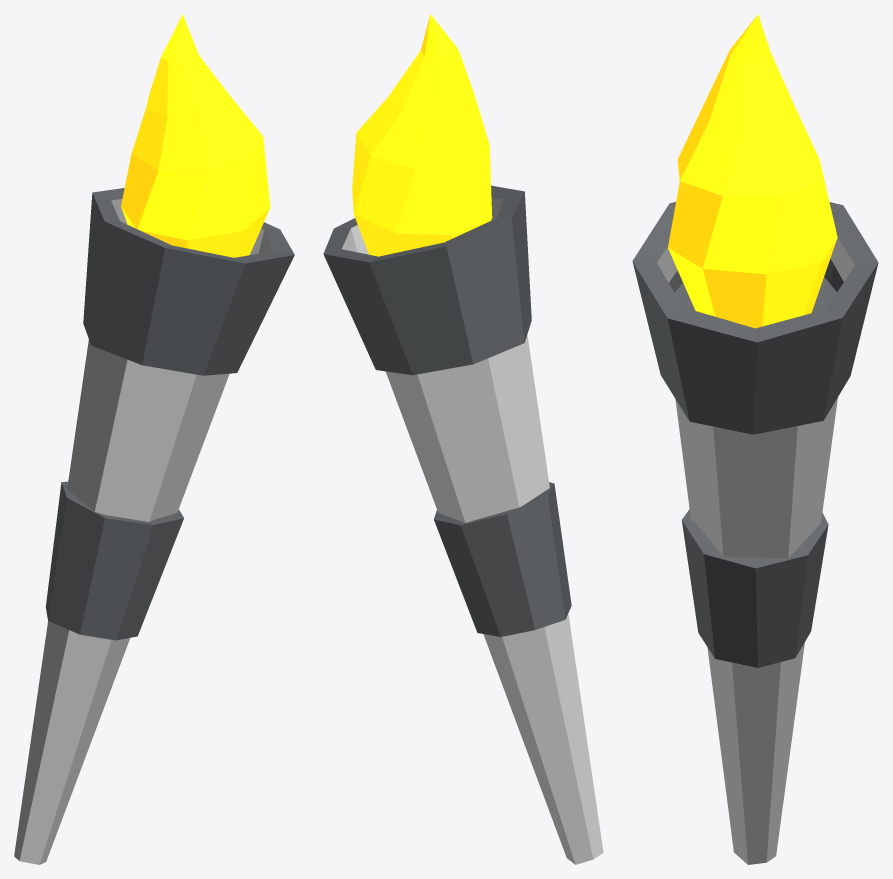
The model's file is Torch001.fbx.
3 renders of one model, left to right at view 1: azimuth 30°, elevation 25°; view 2: azimuth 150°, elevation 25°; view 3: azimuth 270°, elevation 25°, orthographic. The views are drawn at different scales.
Visible parts, largest first — view 1: Torch Variation 001; view 2: Torch Variation 001; view 3: Torch Variation 001.
Boxes of the visible parts, box(x1,y1,x2,y2) form: Torch Variation 001: box(14, 14, 294, 864); Torch Variation 001: box(323, 14, 603, 864); Torch Variation 001: box(632, 14, 878, 864).
Size of the model in its own units: 0.3504 by 1.02 by 0.2452.
